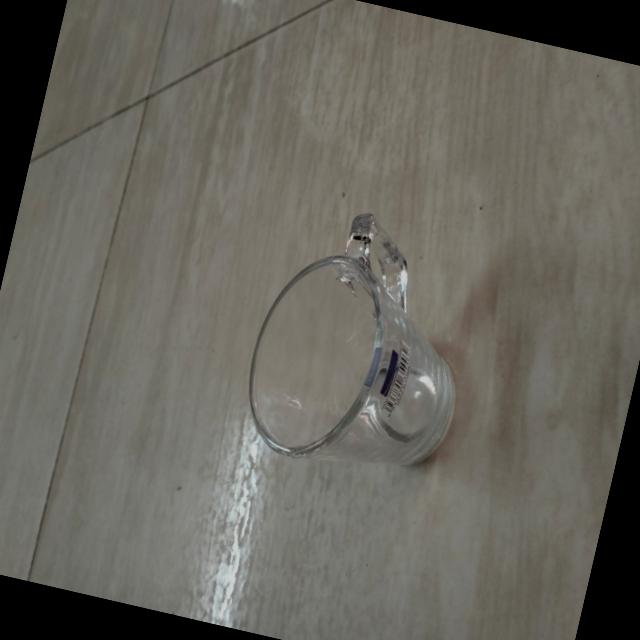glass-VX4N: (227, 192, 498, 496)
